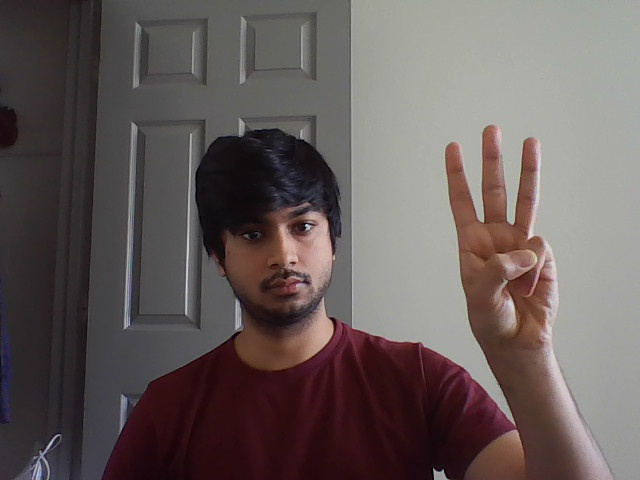three: (440, 118, 551, 242)
